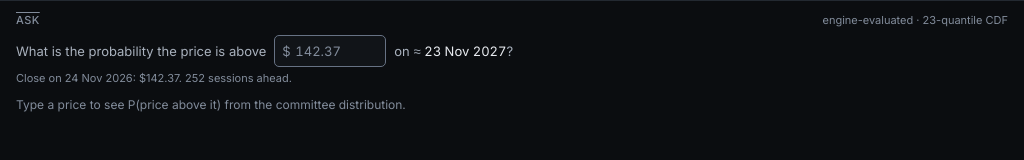
Test case: Committee Ask (UXR1-12) › validates the input instead of asking
Type "abc" into the field labelled "What is the probability the price is above" at (330,51), box [274,35,386,67]
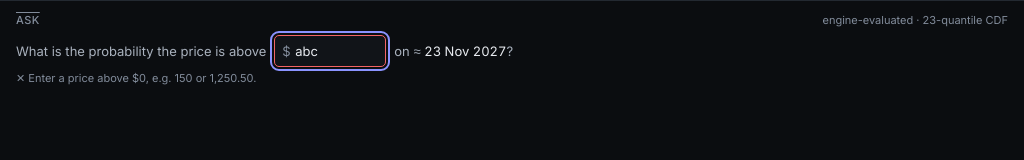
Result: the text "✕ Enter a price above $0, e.g. 150 or 1,250.50." is shown at [16,71,256,85]
